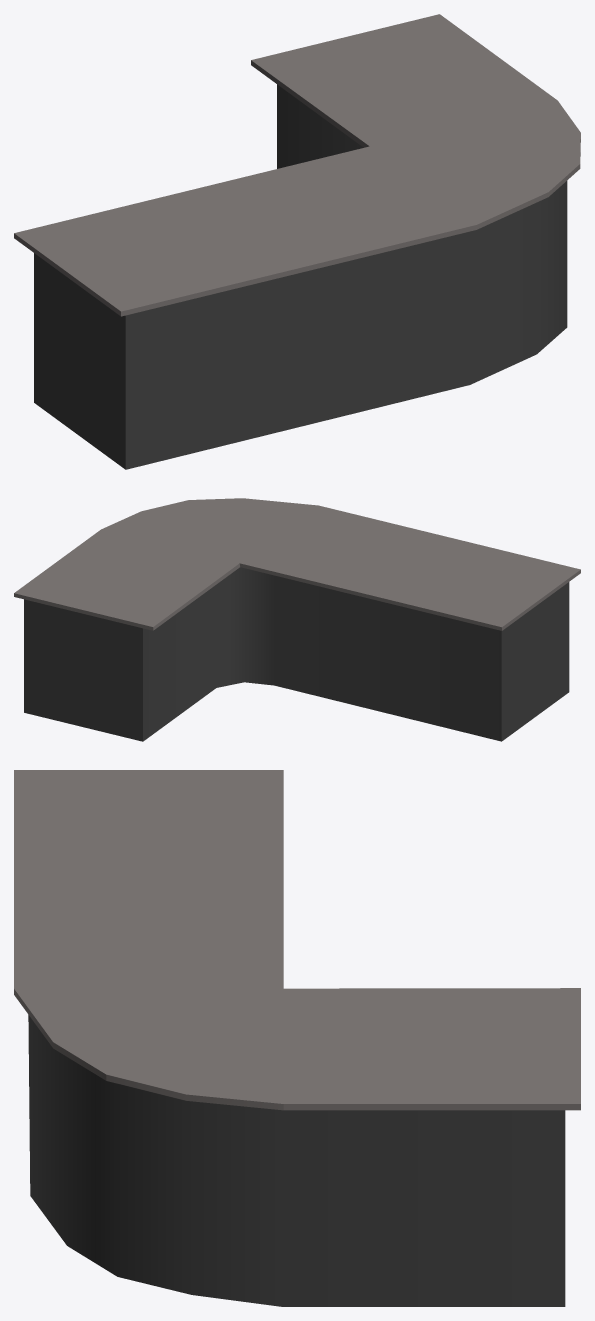
The model's file is SM_Table_05.fbx.
The picture shows the model from 3 angles, top to bottom: view 1: azimuth 30°, elevation 25°; view 2: azimuth 150°, elevation 25°; view 3: azimuth 270°, elevation 25°; orthographic projection. The views are drawn at different scales.
Visible parts, largest first — view 1: SM_Table_05; view 2: SM_Table_05; view 3: SM_Table_05.
Part boxes in pixels (x1,y1,x2,y2): SM_Table_05: (14, 14, 580, 469); SM_Table_05: (14, 498, 580, 741); SM_Table_05: (14, 770, 580, 1306).
Bounding box in the file's own units: 318 × 92.04 × 228.
Materials: 1 (1 with a texture image).
